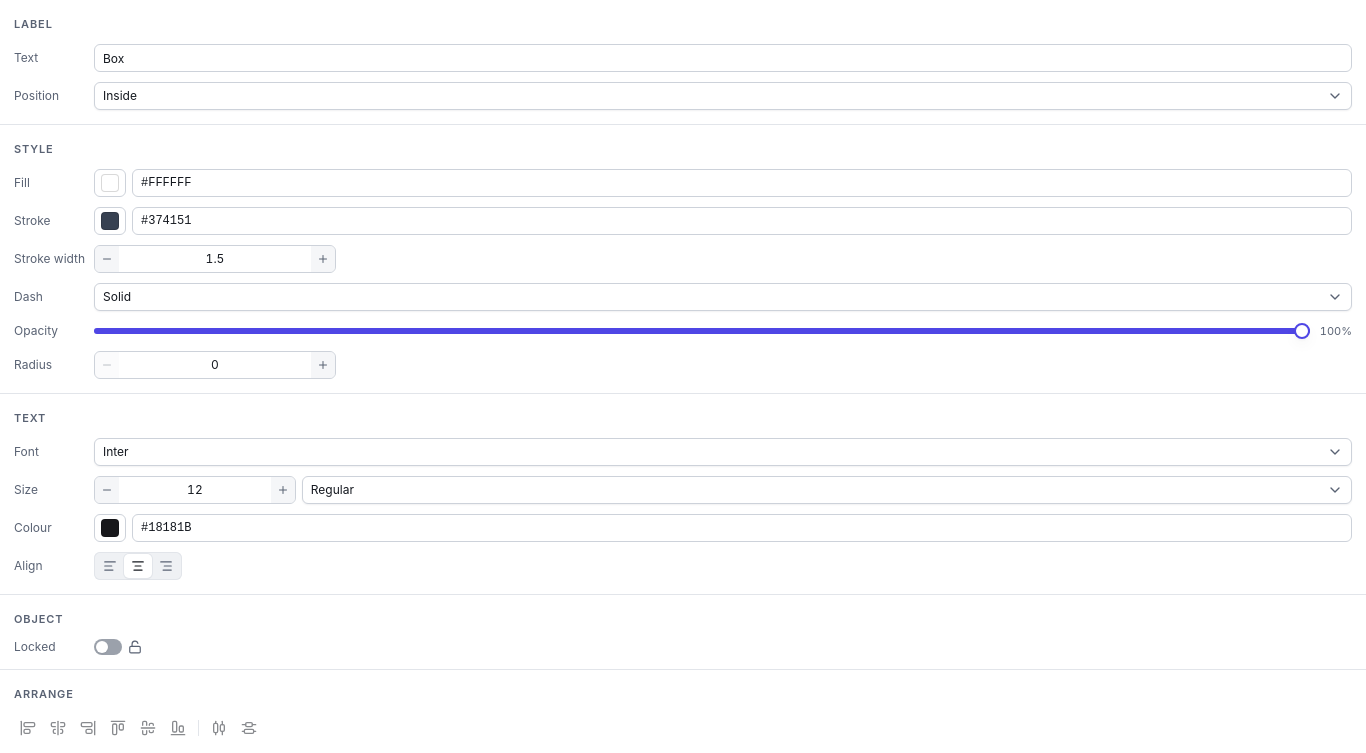
Properties › applies a typed hex colour and rejects invalid input
The image size is (1366, 753).
Replace the text in the field named "Fill hex" with "#112233" at (742, 183), box [132, 169, 1352, 197]
Then press Enter
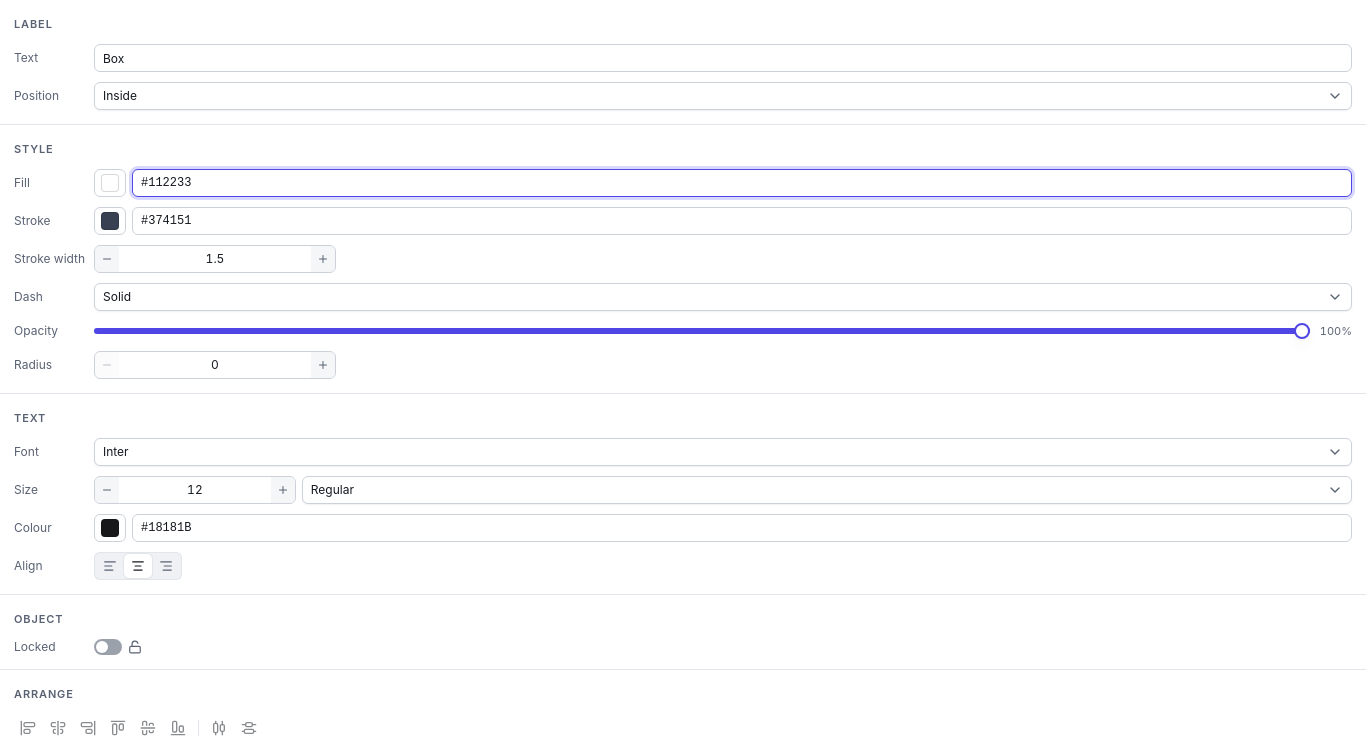
Replace the text in the field named "Fill hex" with "nope" at (742, 183), box [132, 169, 1352, 197]
Then press Enter
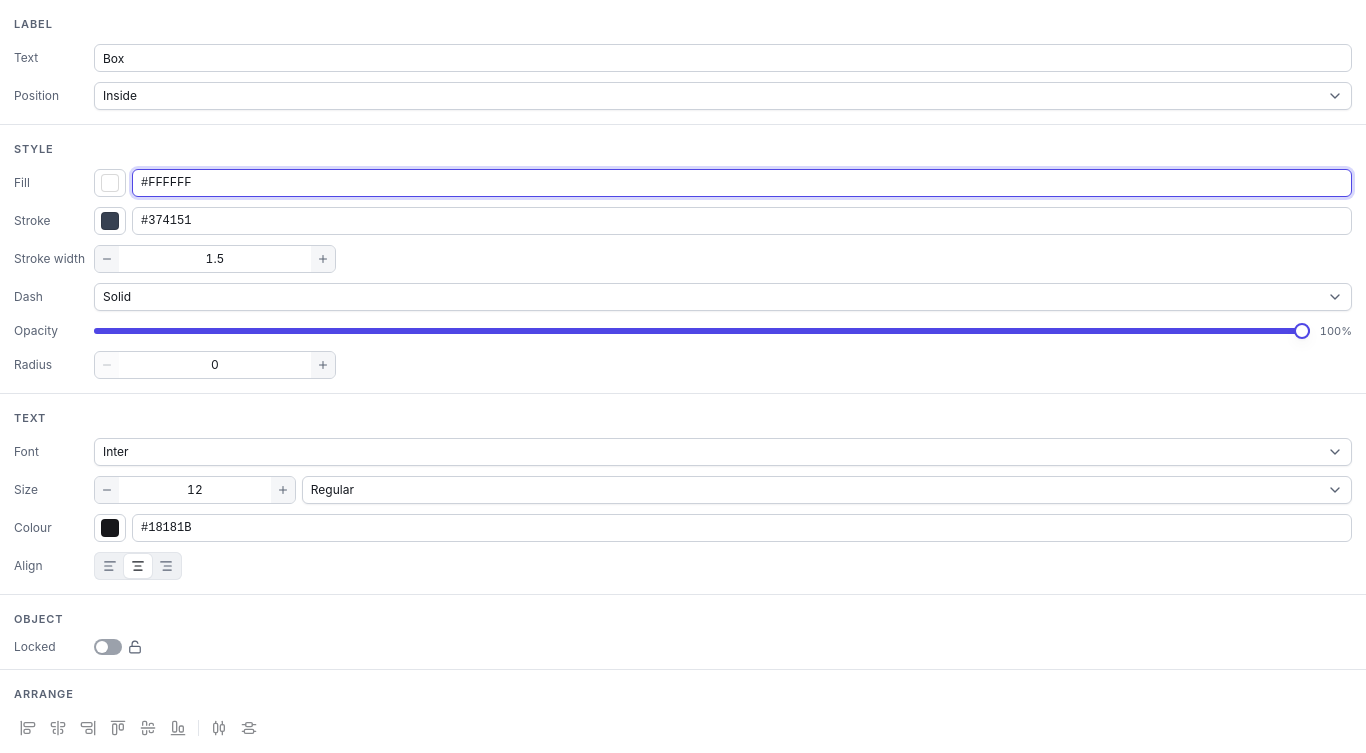
Now the field named "Fill hex" holds "#ffffff", box [132, 169, 1352, 197]
